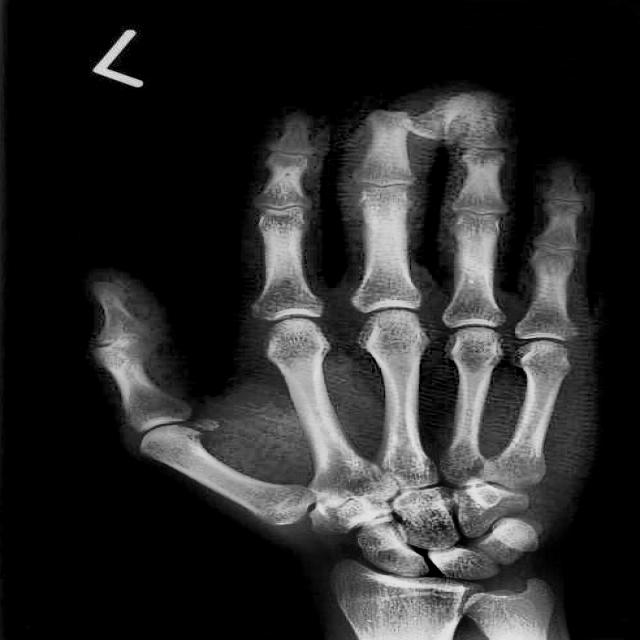fracture: (382, 105, 426, 138)
